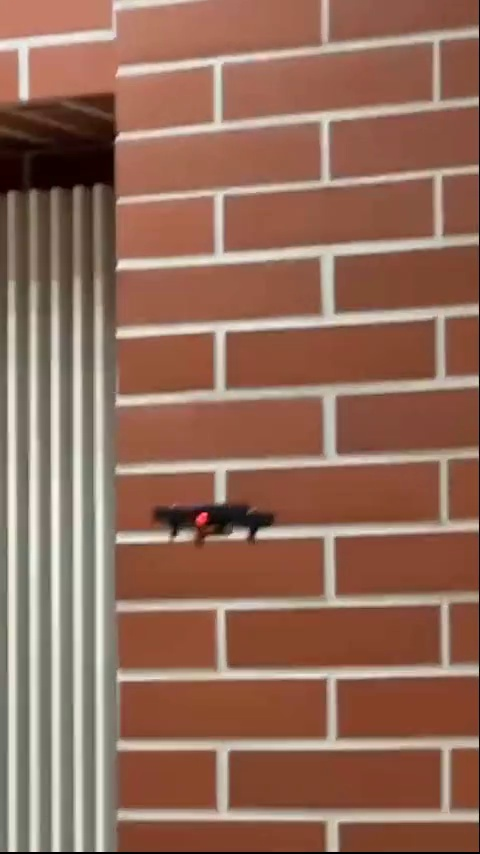drone: (153, 499, 282, 549)
